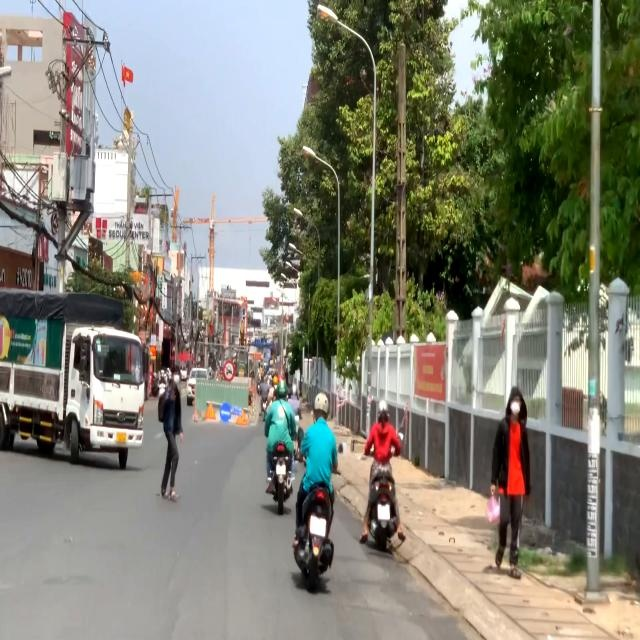bien_nguy_hiem: (223, 359, 235, 382), (219, 402, 232, 423), (235, 407, 248, 426), (204, 401, 216, 421)
